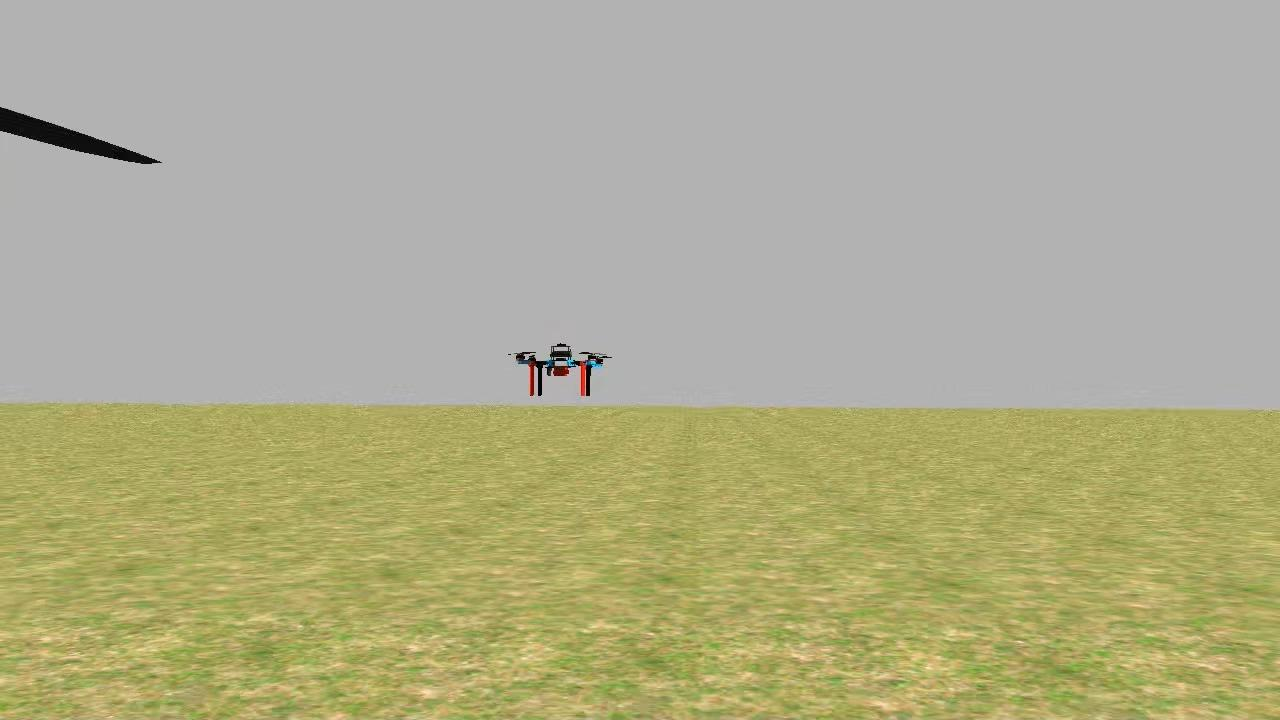UAV: (510, 336, 609, 399)
